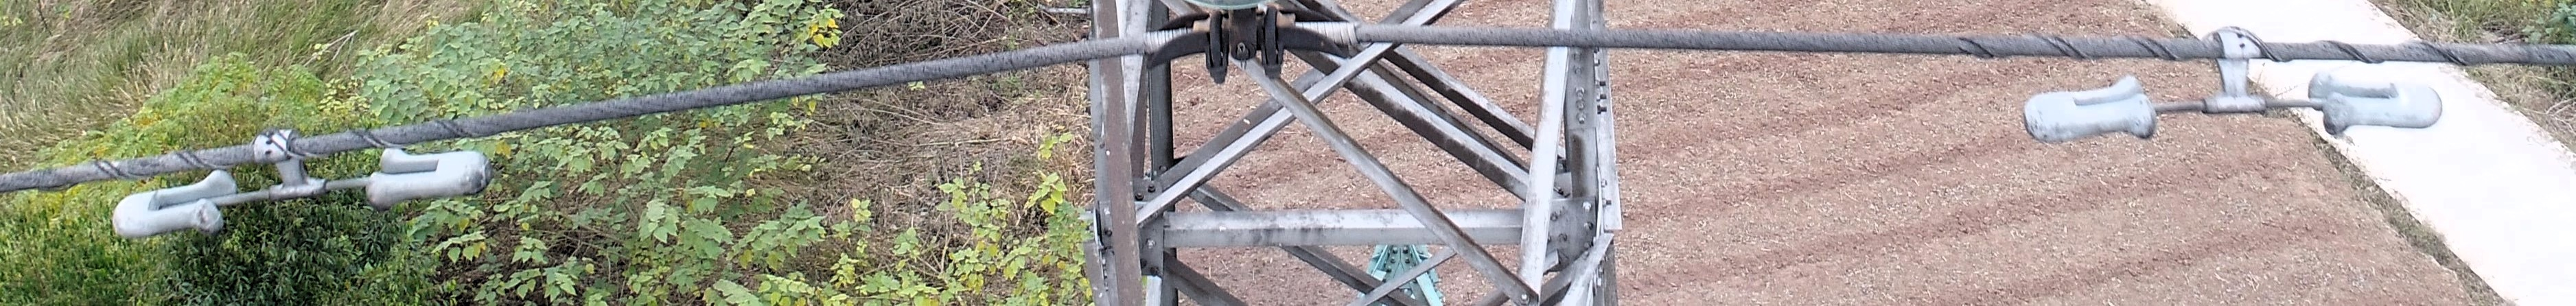Shockproof hammer: (105, 95, 504, 260), (2004, 3, 2459, 145)
